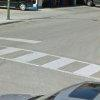Crosswalk: (11, 40, 99, 88)
